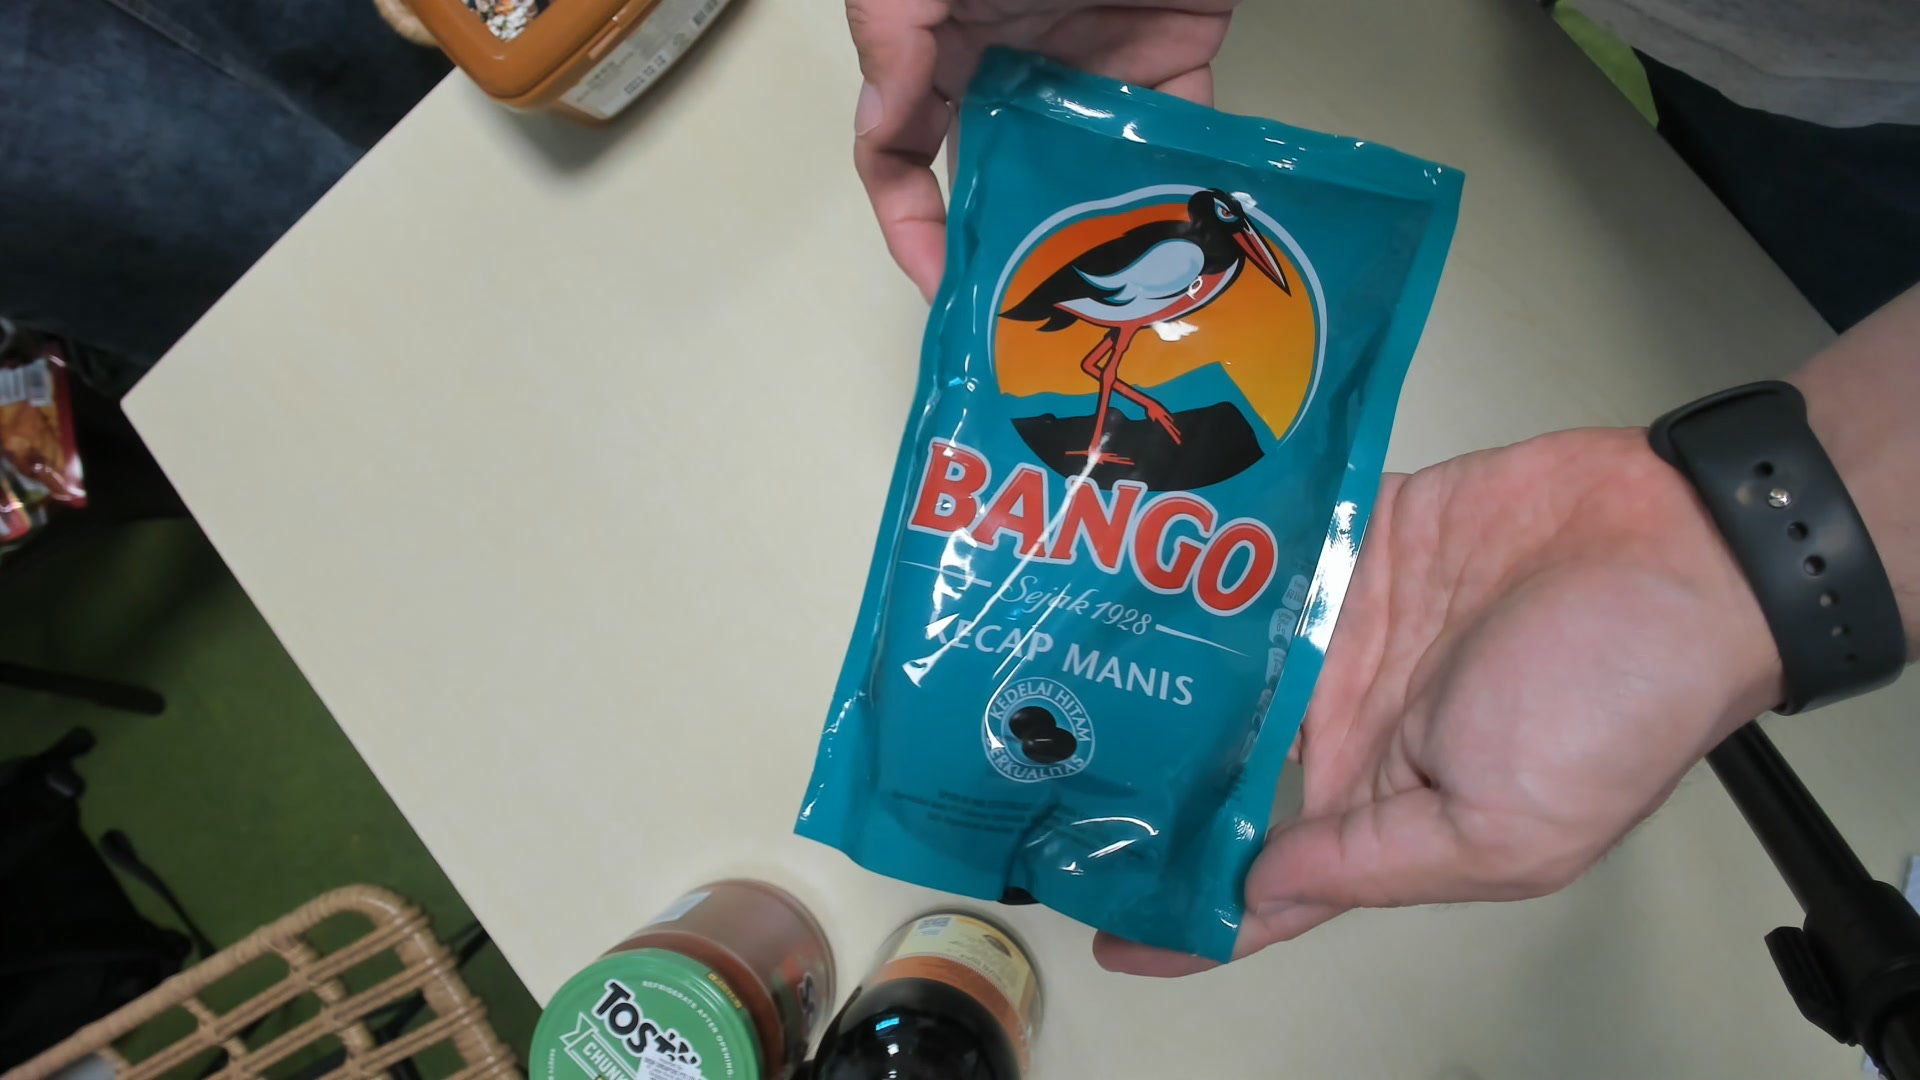OtherSauceDressing_500-599g_NonHalal_NonHealthy: (825, 65, 1443, 949)
